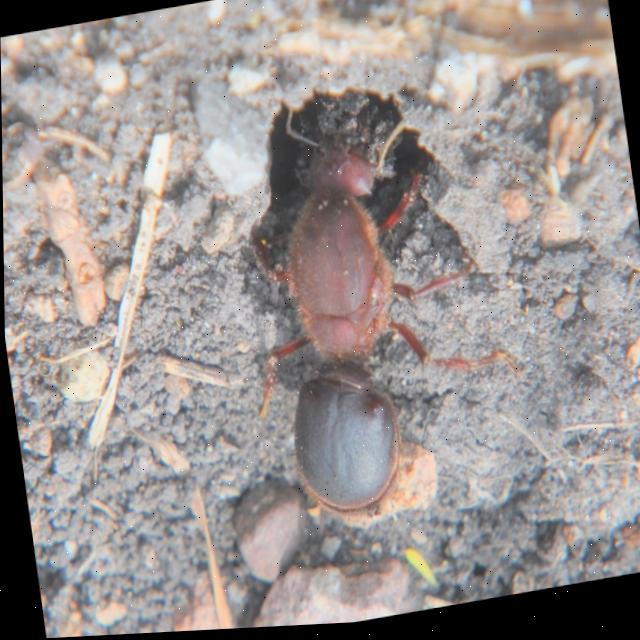Alive-Female-Dealate: (217, 78, 532, 541)
